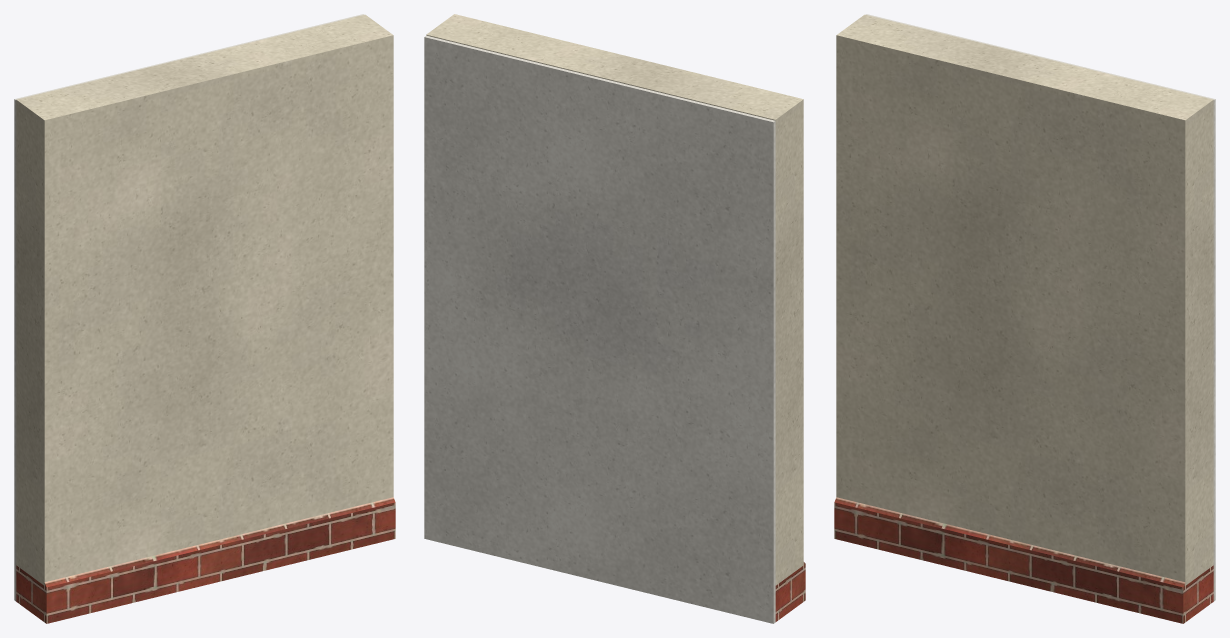
Rendered from gw_plain.glb.
3 views of the same model, side by side, from view 1: azimuth 30°, elevation 25°; view 2: azimuth 150°, elevation 25°; view 3: azimuth 330°, elevation 25° (orthographic).
Visible parts, largest first — view 1: gw_plain_render, gw_plain_brick, gw_plain_plaster; view 2: gw_plain_plaster, gw_plain_render, gw_plain_brick; view 3: gw_plain_render, gw_plain_brick, gw_plain_plaster.
Boxes of the visible parts, <box> form: gw_plain_render: <box>16,14,393,585</box>; gw_plain_brick: <box>16,497,395,623</box>; gw_plain_plaster: <box>14,14,363,601</box>; gw_plain_plaster: <box>424,35,775,623</box>; gw_plain_render: <box>426,14,803,585</box>; gw_plain_brick: <box>775,562,805,621</box>; gw_plain_render: <box>836,14,1213,585</box>; gw_plain_brick: <box>834,497,1213,623</box>; gw_plain_plaster: <box>866,14,1215,601</box>.
Size of the model in its own units: 2 by 2.75 by 0.32.
3 materials, 3 textured.
